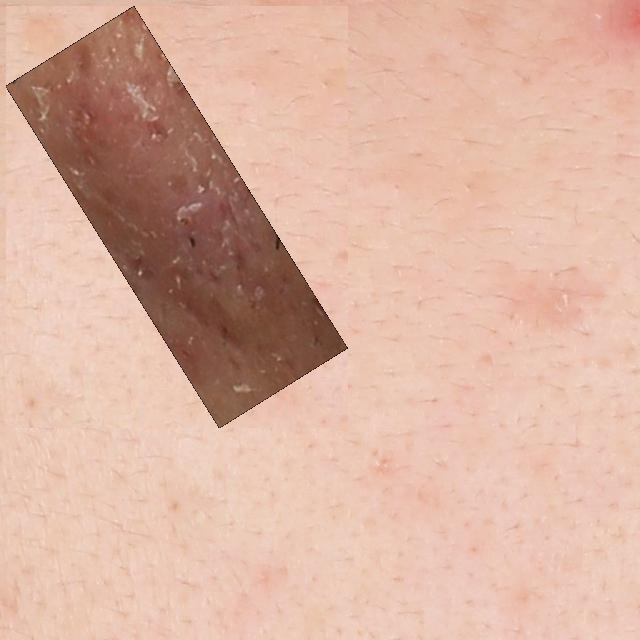nodule: (17, 17, 337, 417)
